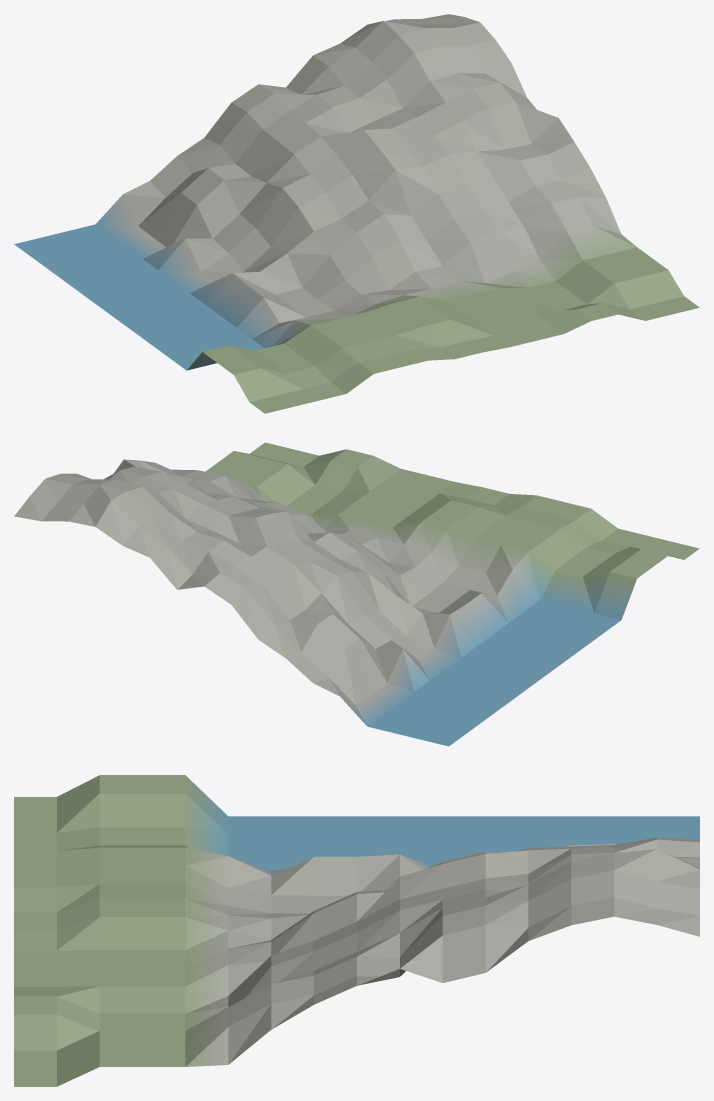
3 views of the same model, one above another, from view 1: azimuth 30°, elevation 25°; view 2: azimuth 150°, elevation 25°; view 3: azimuth 270°, elevation 25° (orthographic). The views are drawn at different scales.
Size of the model in its own units: 32 by 10.44 by 32.
